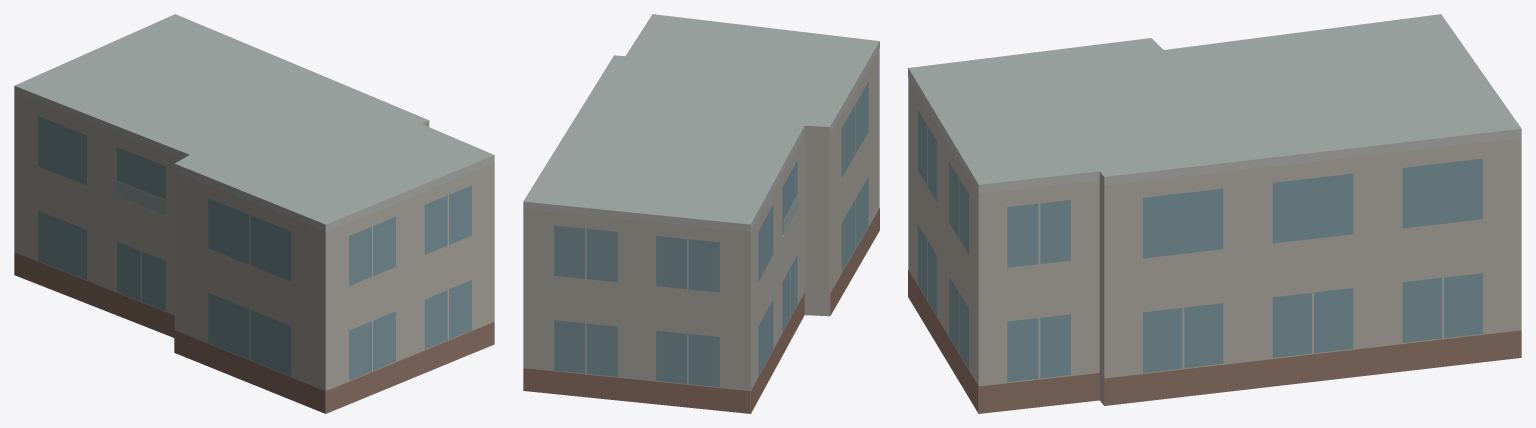
File: survey-upis-32661589.glb
3 views of the same model, side by side, from view 1: azimuth 30°, elevation 25°; view 2: azimuth 150°, elevation 25°; view 3: azimuth 270°, elevation 25° (orthographic). The views are drawn at different scales.
Visible parts, largest first — view 1: survey-upis-32661589.tmp; view 2: survey-upis-32661589.tmp; view 3: survey-upis-32661589.tmp.
Boxes of the visible parts, bbox=[...] form: survey-upis-32661589.tmp: bbox=[14, 14, 494, 413]; survey-upis-32661589.tmp: bbox=[523, 14, 879, 413]; survey-upis-32661589.tmp: bbox=[908, 14, 1521, 413].
Bounding box in the file's own units: 9.77 × 6.1 × 14.82.
